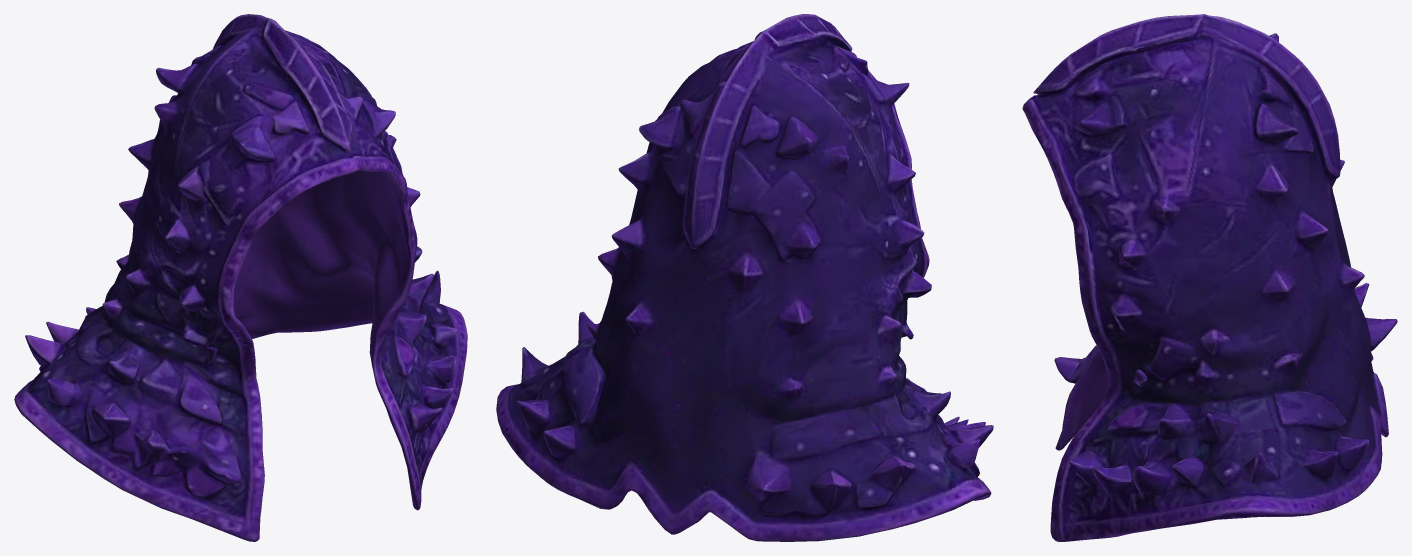
Rendered from duelista-elmo.glb.
3 renders of one model, left to right at view 1: azimuth 30°, elevation 25°; view 2: azimuth 150°, elevation 25°; view 3: azimuth 270°, elevation 25°, orthographic. The views are drawn at different scales.
Parts seen in each view (by area): view 1: tripo_node_bf0b5a91-03ce-45f5-92ba-40f3c4a253a6; view 2: tripo_node_bf0b5a91-03ce-45f5-92ba-40f3c4a253a6; view 3: tripo_node_bf0b5a91-03ce-45f5-92ba-40f3c4a253a6.
Boxes of the visible parts, x1,y1,x2,y2 form: tripo_node_bf0b5a91-03ce-45f5-92ba-40f3c4a253a6: (14, 14, 467, 541); tripo_node_bf0b5a91-03ce-45f5-92ba-40f3c4a253a6: (496, 14, 993, 541); tripo_node_bf0b5a91-03ce-45f5-92ba-40f3c4a253a6: (1022, 14, 1397, 541).
Size of the model in its own units: 0.9773 by 0.9741 by 0.681.
1 material, 1 textured.
